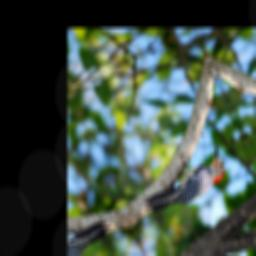Woodpecker: (130, 138, 233, 221)
